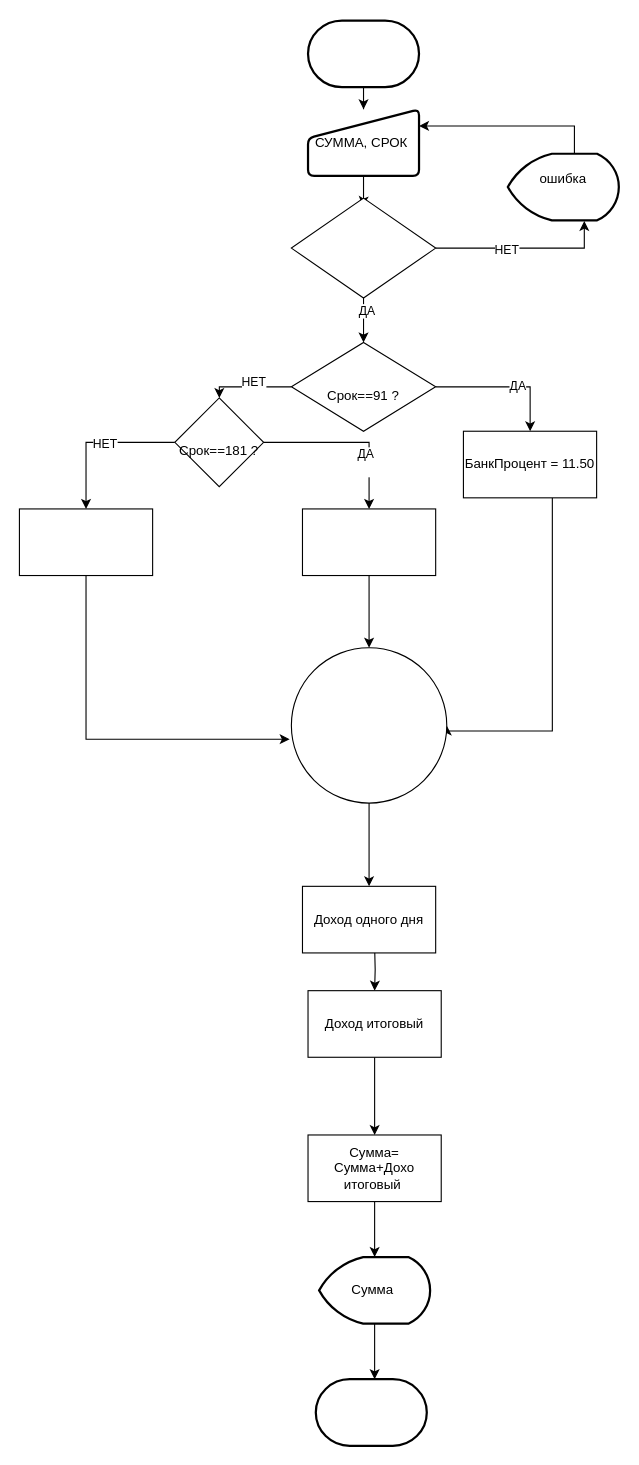
This 639x1465 diagram has some shape labels left out. The shapes that lost their labels are listed below. From the top down, each one's centre as x and y in pixels, then its label:
(363,53): НАЧАЛО
(363,247): Срок правильный ?
(85,542): банкПроцент = 12.50
(368,542): банкПроцент = 11.75
(370,1412): Конец
